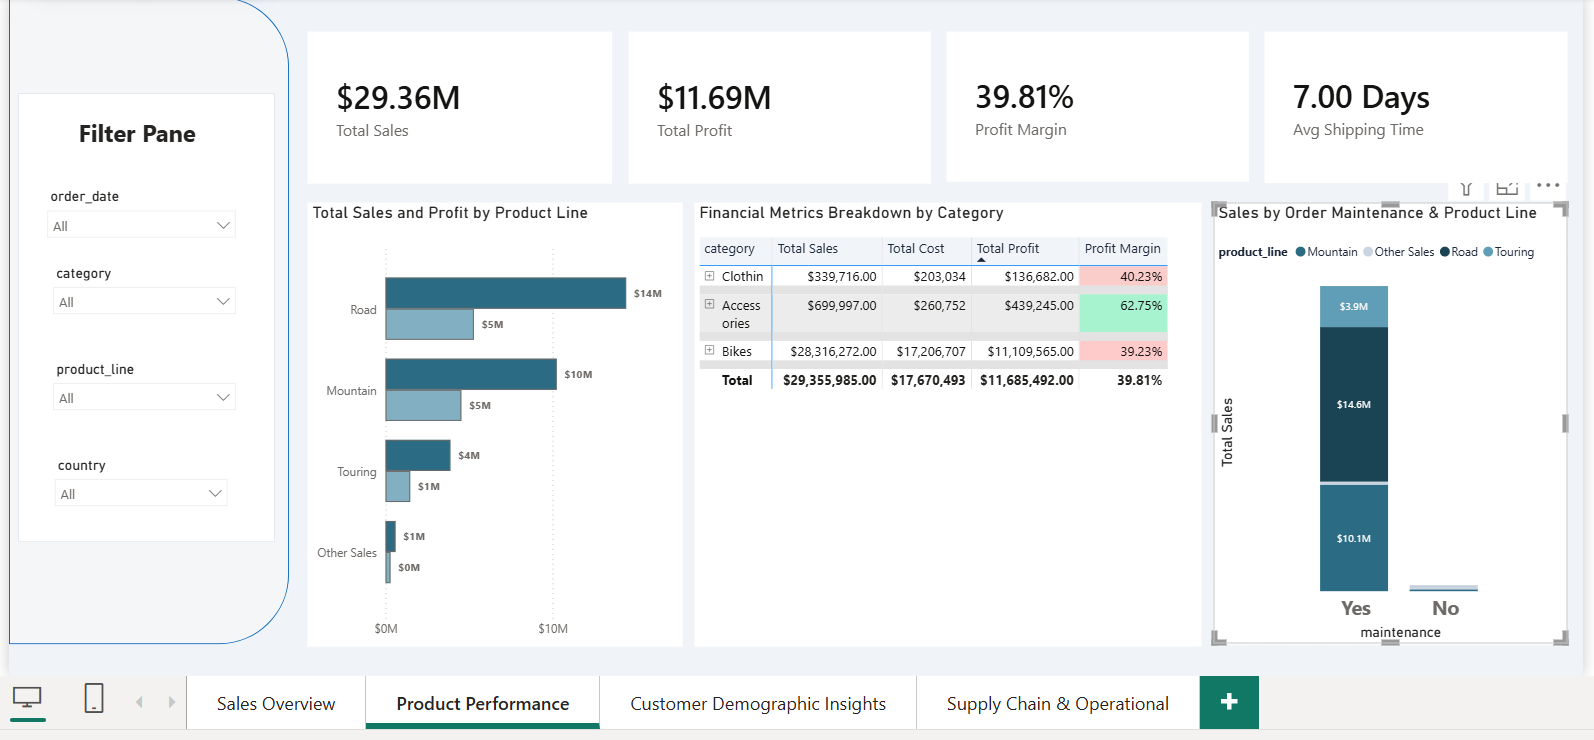

The dashboard page shown, as its layout file describes it:
{"tool":"powerbi","page":{"name":"Product Performance","canvas":[1600,690],"ordinal":1},"visuals":[{"type":"shape","title":"Slicer_shpw_box","box":[8.7,97.2,261.1,456.2],"z":0,"group":"g1"},{"type":"group","id":"g1","title":"slicer panel","box":[8.7,97.2,261.1,456.2],"z":1000,"group":"g2"},{"type":"slicer","title":"Slicer_country","fields":{"Values":["gold dim_customers.country"]},"box":[36.8,461.8,195.3,72.3],"z":1000,"group":"g1"},{"type":"slicer","title":"Slicer_product","fields":{"Values":["gold dim_products.product_line"]},"box":[34.6,364.6,205,84.9],"z":2000,"group":"g1"},{"type":"slicer","title":"Slicer_order_date","fields":{"Values":["gold fact_sales.order_date"]},"box":[28.1,188.4,211.5,91.2],"z":3000,"group":"g1"},{"type":"pivotTable","title":"Financial Metrics Breakdown by Category","fields":{"Rows":["gold dim_products.category","gold dim_products.subcategory","gold dim_products.product_name"],"Values":["_All Measures.Total Sales","_All Measures.Total Cost","_All Measures.Total Profit","_All Measures.Profit Margin"]},"box":[697.1,208.2,515,451],"z":4000},{"type":"slicer","title":"Slicer_category","fields":{"Values":["gold dim_products.category"]},"box":[34.6,267.1,205,97.5],"z":4000,"group":"g1"},{"type":"textbox","title":"slicer_text_box","box":[64.8,116.1,146.7,72.4],"z":5000,"group":"g1"},{"type":"columnChart","title":"Sales by Order Maintenance & Product Line","fields":{"Category":["gold dim_products.maintenance"],"Y":["_All Measures.Total Sales"],"Series":["gold dim_products.product_line"]},"box":[1224.7,208.2,359,449],"z":5000},{"type":"shape","box":[0,0,284.6,657.7],"z":9000},{"type":"group","id":"g2","title":"slicers","box":[8.7,97.2,262,456.4],"z":10000},{"type":"cardVisual","fields":{"Data":["_All Measures.Total Sales"]},"box":[303.1,35.1,309.3,154.6],"z":11000},{"type":"cardVisual","fields":{"Data":["_All Measures.Total Profit"]},"box":[628.9,35.1,307.2,154.6],"z":12000},{"type":"cardVisual","fields":{"Data":["_All Measures.Profit Margin"]},"box":[952.6,35.1,307.2,152.6],"z":13000},{"type":"cardVisual","fields":{"Data":["_All Measures.Avg Shipping Time"]},"box":[1276.3,35.1,307.9,154],"z":14000},{"type":"clusteredBarChart","title":"Total Sales and Profit by Product Line","fields":{"Category":["gold dim_products.product_line"],"Y":["_All Measures.Total Sales","_All Measures.Total Profit"]},"box":[303.1,208.2,381.4,451.5],"z":15000}]}

Visuals, with their boxes on the page's 1600x690 design canvas (x1, y1, x2, y2). These are canvas units, not pixel positions in the 1594x740 screenshot, which may show the page scaled, cropped or inside an application window:
"Slicer_shpw_box" shape: locate(9, 97, 270, 553)
"slicer panel" group: locate(9, 97, 270, 553)
"Slicer_country" slicer: locate(37, 462, 232, 534)
"Slicer_product" slicer: locate(35, 365, 240, 450)
"Slicer_order_date" slicer: locate(28, 188, 240, 280)
"Financial Metrics Breakdown by Category" pivotTable: locate(697, 208, 1212, 659)
"Slicer_category" slicer: locate(35, 267, 240, 365)
"slicer_text_box" textbox: locate(65, 116, 212, 188)
"Sales by Order Maintenance & Product Line" columnChart: locate(1225, 208, 1584, 657)
shape: locate(0, 0, 285, 658)
"slicers" group: locate(9, 97, 271, 554)
cardVisual - _All Measures.Total Sales: locate(303, 35, 612, 190)
cardVisual - _All Measures.Total Profit: locate(629, 35, 936, 190)
cardVisual - _All Measures.Profit Margin: locate(953, 35, 1260, 188)
cardVisual - _All Measures.Avg Shipping Time: locate(1276, 35, 1584, 189)
"Total Sales and Profit by Product Line" clusteredBarChart: locate(303, 208, 684, 660)
